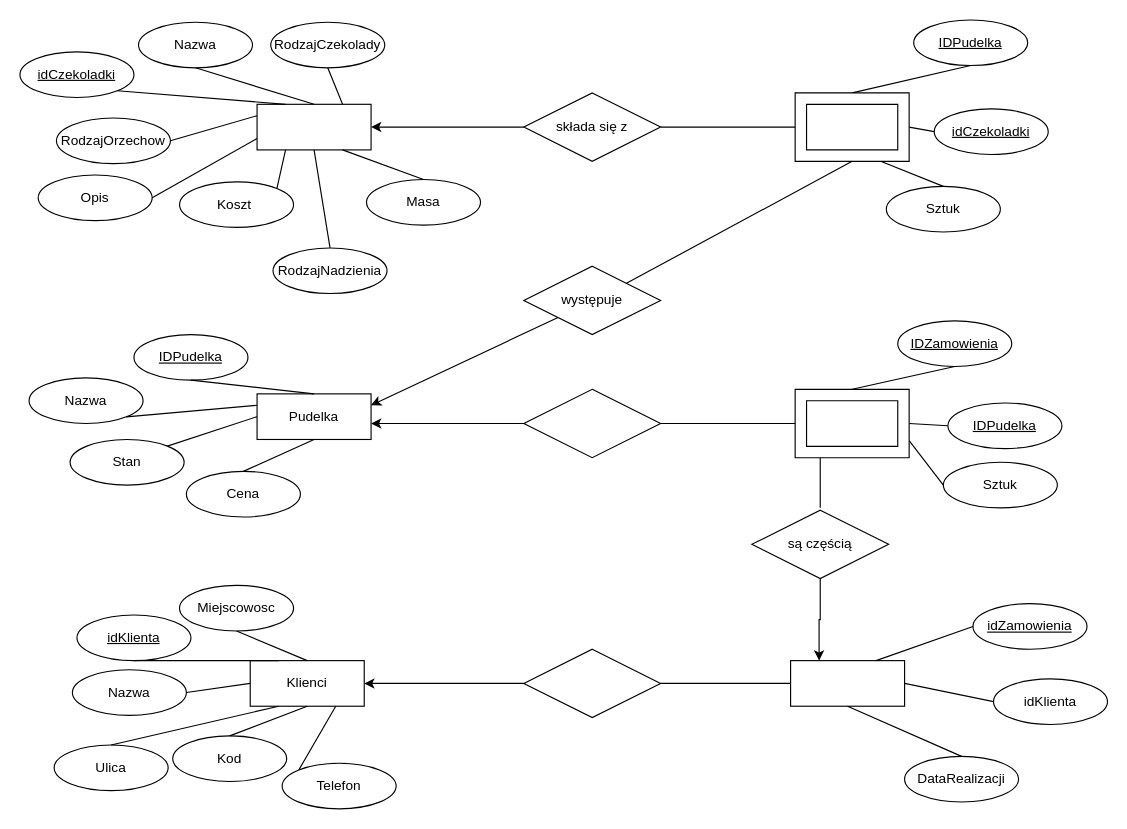
This 1127x829 diagram has some shape labels left out. Here are the shapes that lost their labels. From the top down, the centre of each, then its label:
point (313, 126): Czekoladki
point (851, 126): Zawartosc
point (592, 423): znajdują się w
point (851, 423): Artykuly
point (592, 683): składają
point (847, 682): Zamowienia
